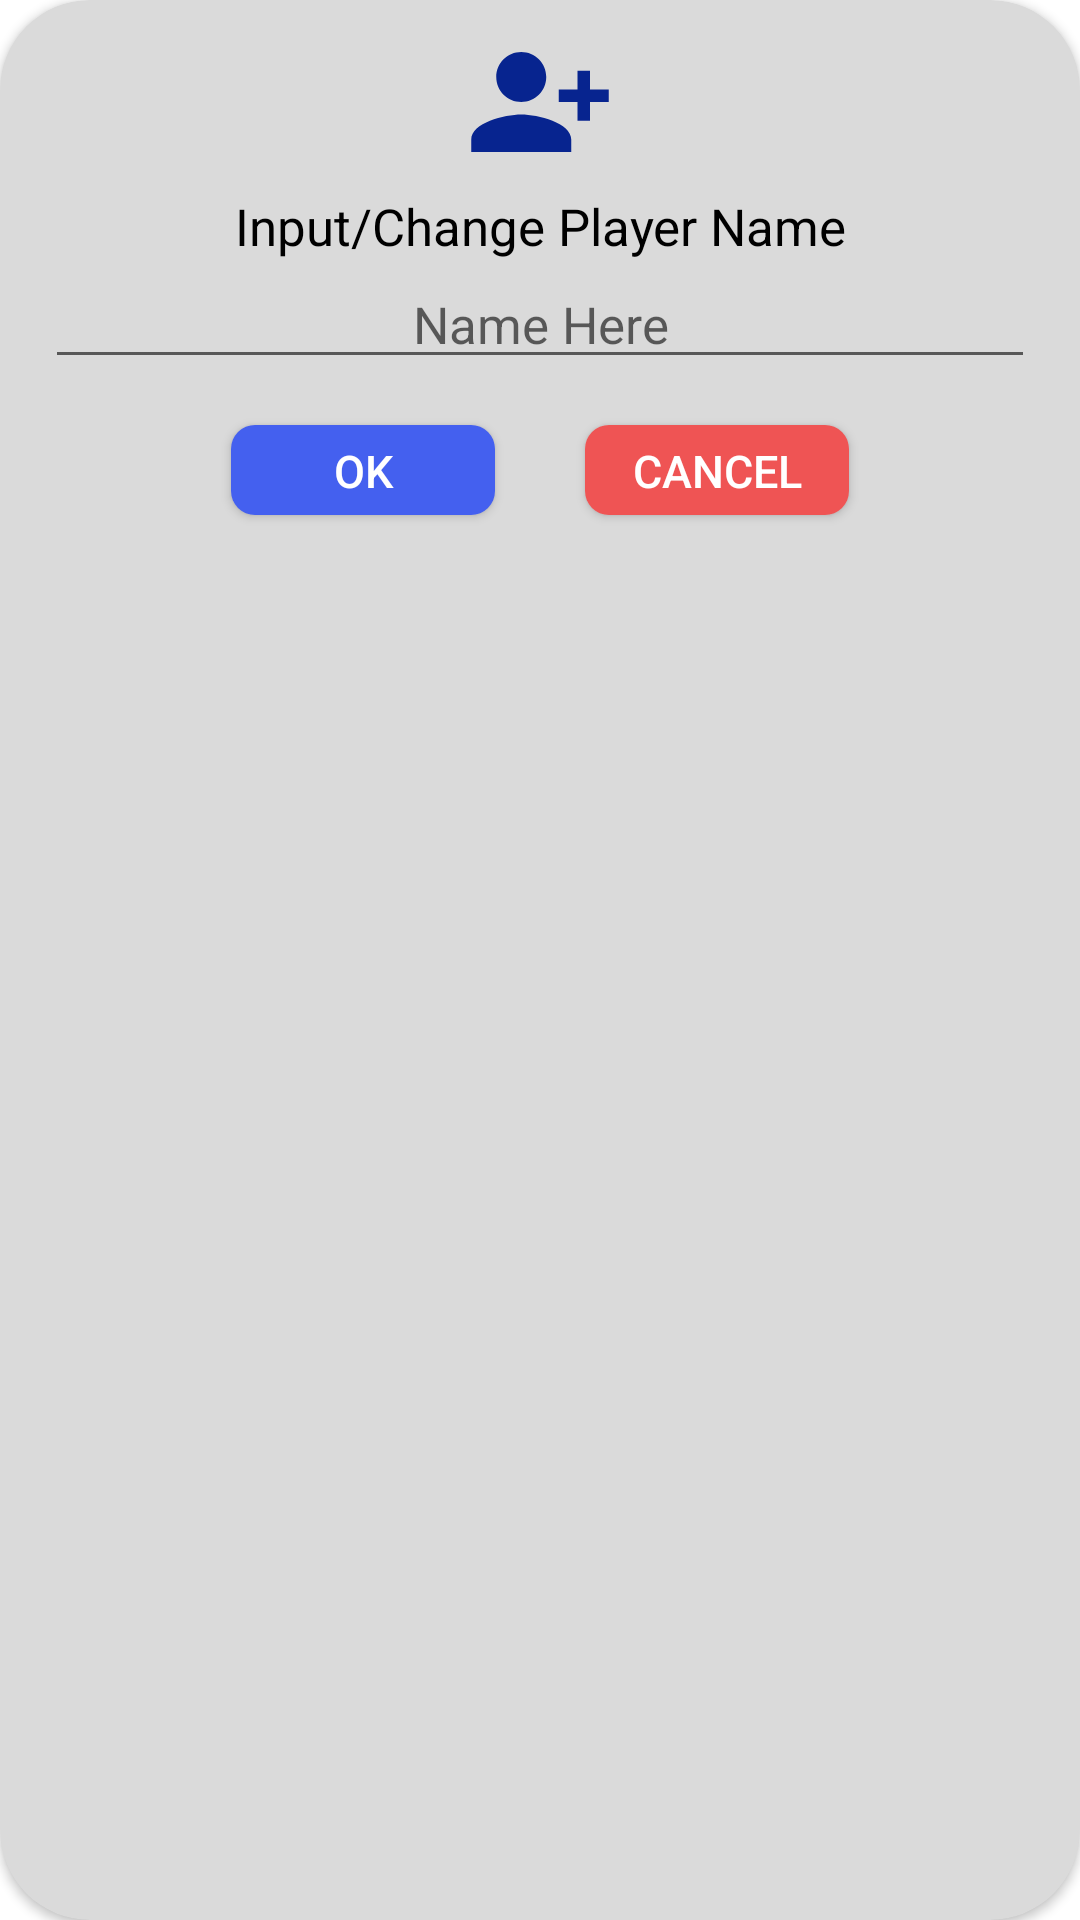

Screen size 1080w x 1920h. Icon name, then its box in pixels as rect(x1, y1, x2, y2):
player add: rect(471, 52, 609, 152)
